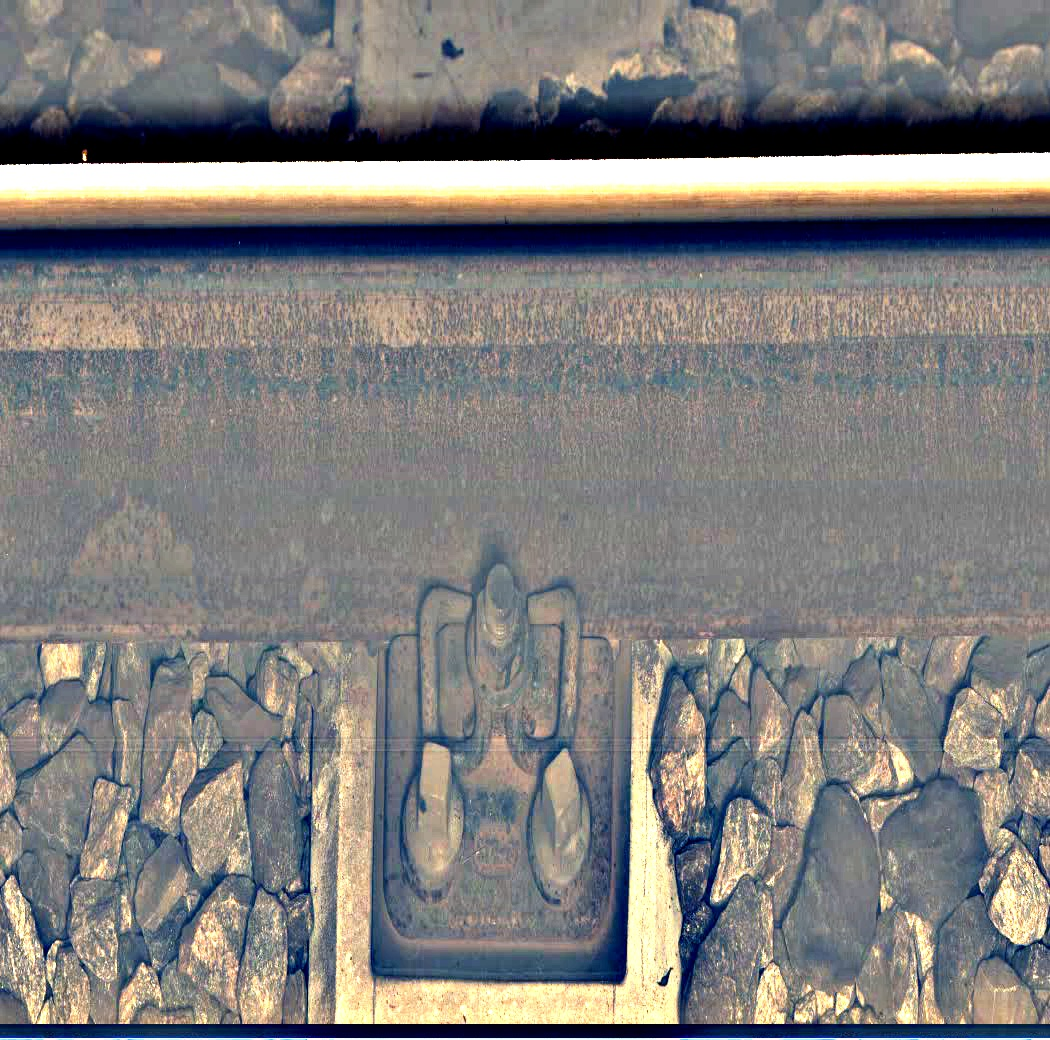tension_clamp: (357, 546, 664, 999)
